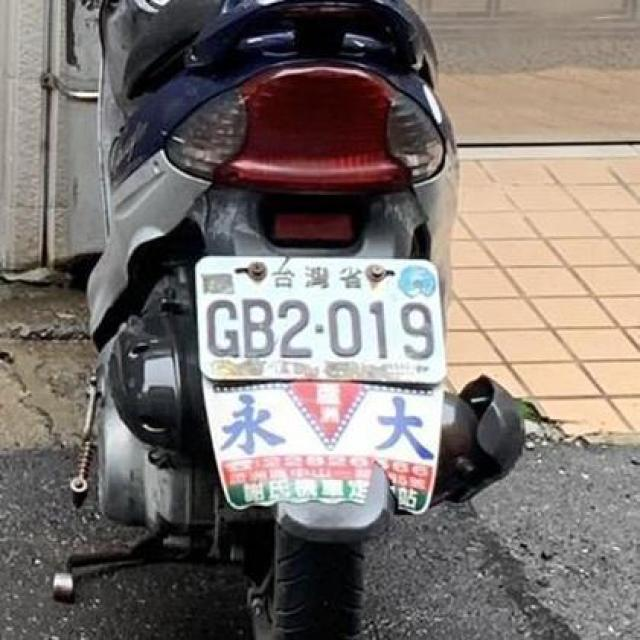W: (189, 247, 448, 390)
